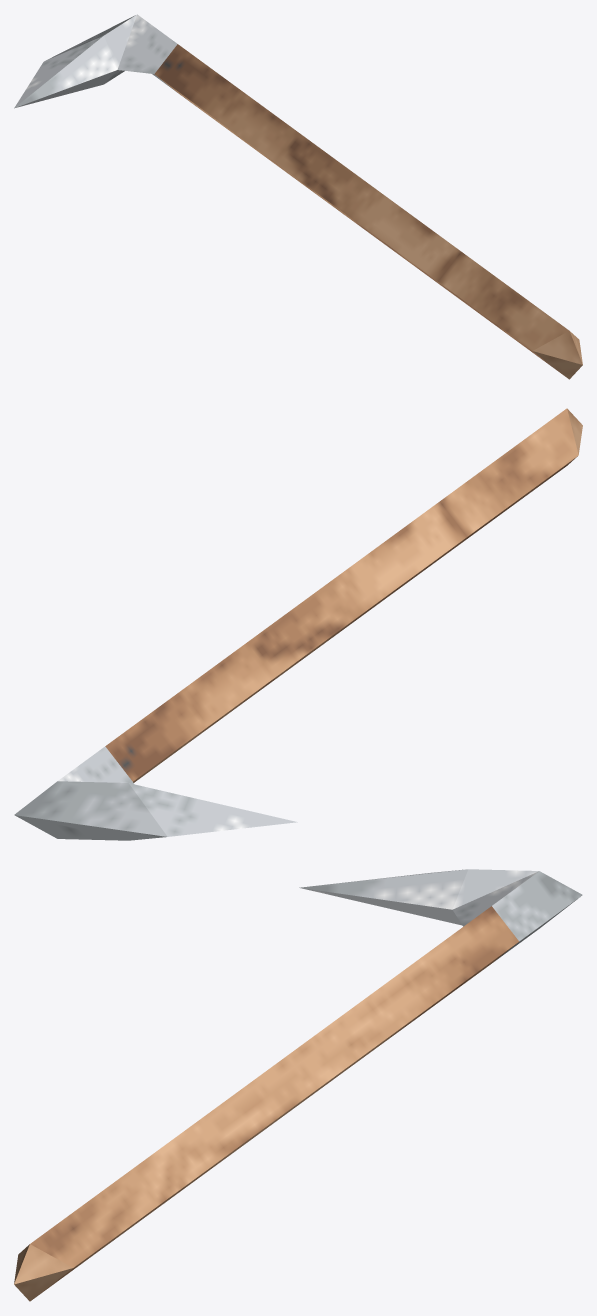
The model's file is Hoe.fbx.
3 renders of one model, top to bottom at view 1: azimuth 30°, elevation 25°; view 2: azimuth 150°, elevation 25°; view 3: azimuth 330°, elevation 25°, orthographic. The views are drawn at different scales.
Visible parts, largest first — view 1: Hoe; view 2: Hoe; view 3: Hoe.
Boxes of the visible parts, x1,y1,x2,y2 form: Hoe: (14,14,582,379); Hoe: (14,408,582,840); Hoe: (14,869,582,1301).
Bounding box in the file's own units: 80 × 20 × 340.
1 material, 1 textured.
